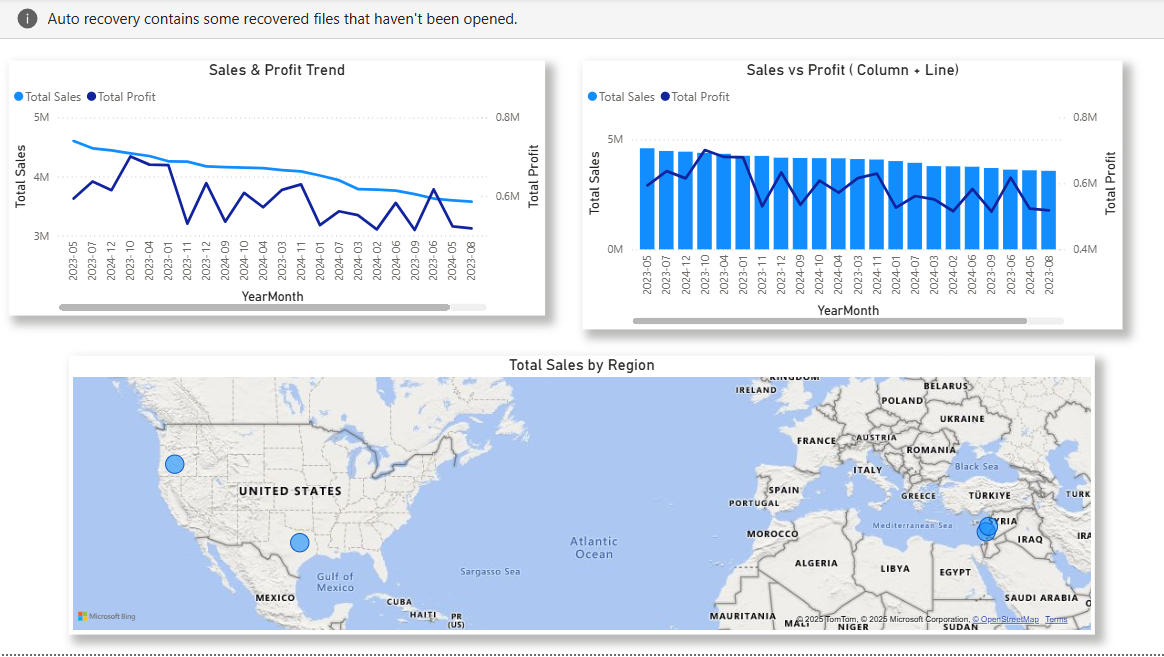

This screenshot's page, from the dashboard's own definition file:
{"tool":"powerbi","page":{"name":"Trend Analysis","canvas":[1280,720],"ordinal":1},"visuals":[{"type":"lineChart","title":"Sales & Profit Trend","fields":{"Category":["DimDate.YearMonth"],"Y":["FactSales.Total Sales"],"Y2":["FactSales.Total Profit"]},"box":[9.6,68.6,588.7,279.9],"z":0},{"type":"lineStackedColumnComboChart","title":"Sales vs Profit ( Column + Line)","fields":{"Category":["DimDate.YearMonth"],"Y":["FactSales.Total Sales"],"Y2":["FactSales.Total Profit"]},"box":[639.5,68.6,592.8,295],"z":1000},{"type":"map","fields":{"Category":["DimRegion.Region"],"Size":["FactSales.Total Sales"]},"box":[75.5,392.5,1126.6,306],"z":2000}]}

Visuals, with their boxes on the page's 1280x720 design canvas (x1, y1, x2, y2). These are canvas units, not pixel positions in the 1164x657 screenshot, which may show the page scaled, cropped or inside an application window:
"Sales & Profit Trend" lineChart: [left=10, top=69, right=598, bottom=348]
"Sales vs Profit ( Column + Line)" lineStackedColumnComboChart: [left=640, top=69, right=1232, bottom=364]
map - DimRegion.Region x FactSales.Total Sales: [left=76, top=392, right=1202, bottom=698]
